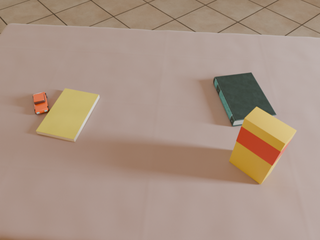book: (36, 88, 99, 142), (213, 73, 276, 126)
box: (229, 107, 296, 184)
toy_car: (33, 92, 50, 114)
